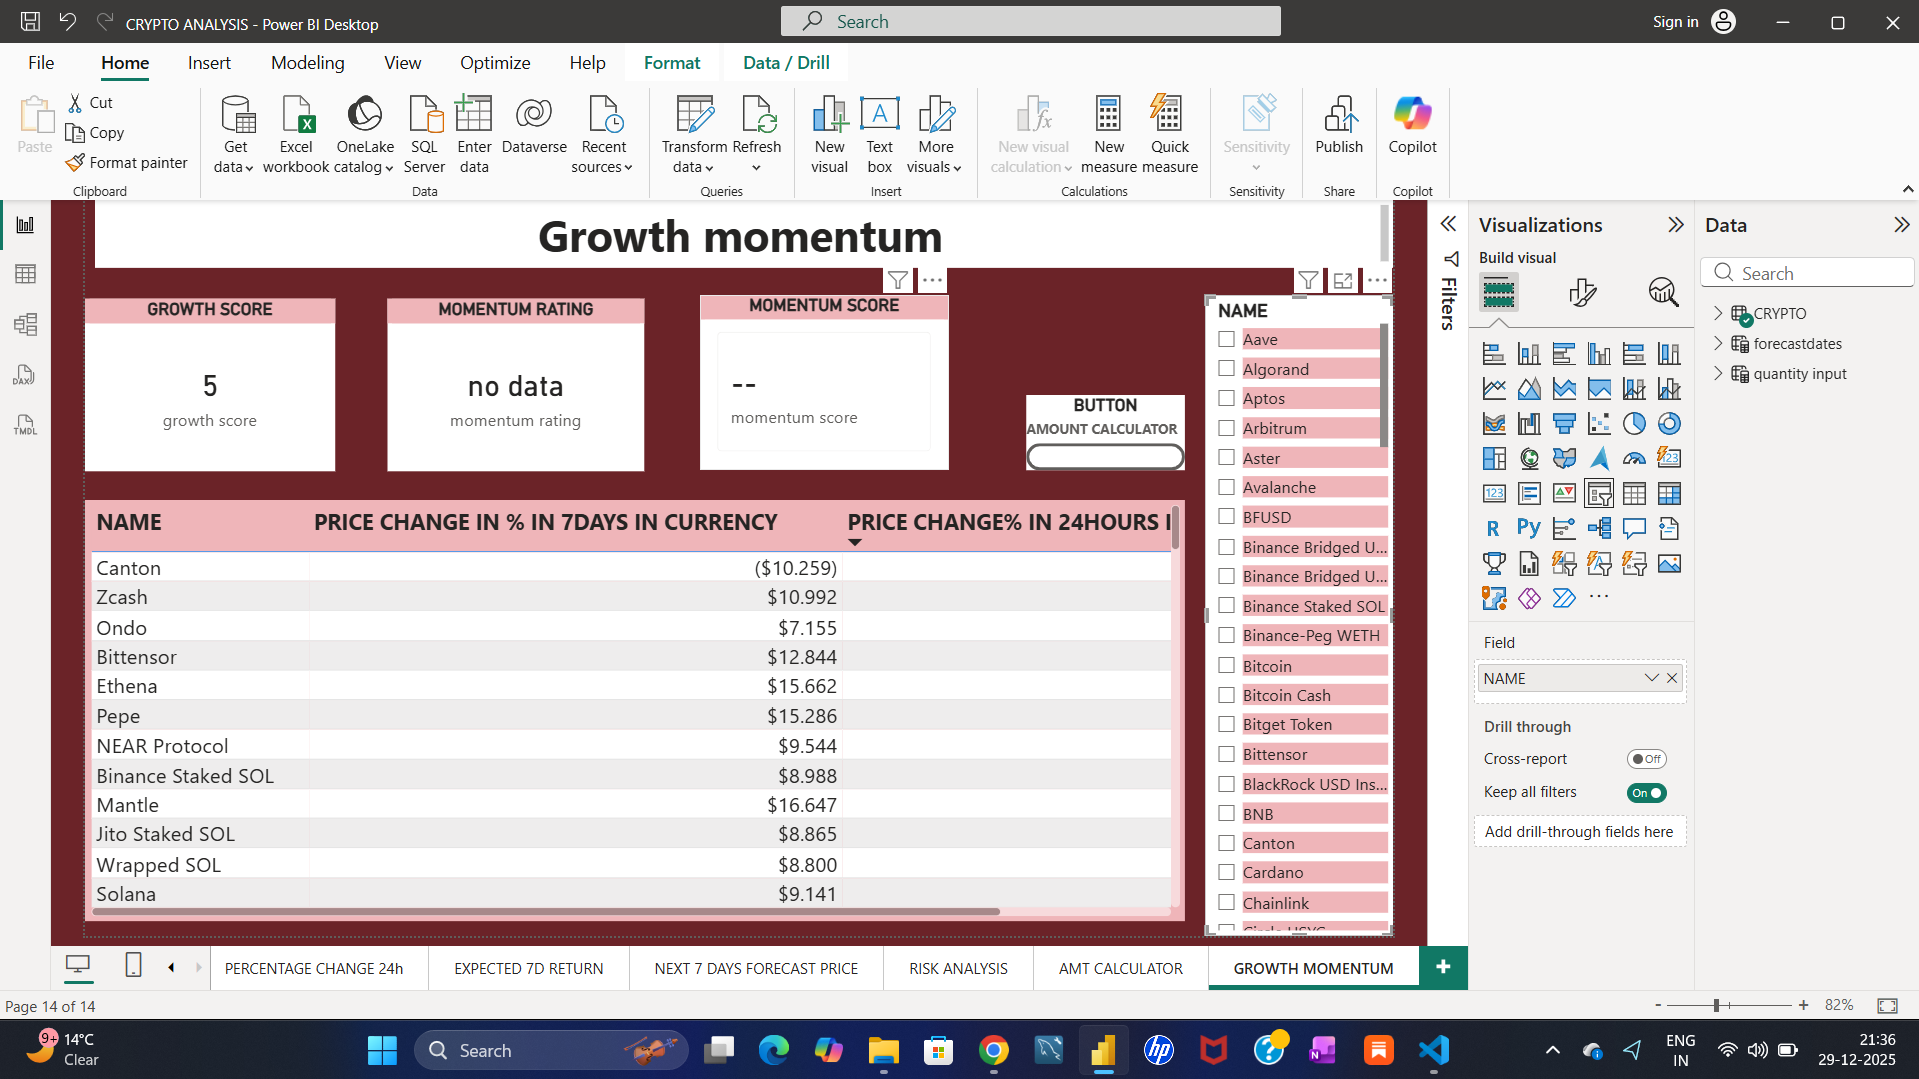

This screenshot's page, from the dashboard's own definition file:
{"tool":"powerbi","page":{"name":"GROWTH MOMENTUM","canvas":[1280,720],"ordinal":13},"visuals":[{"type":"textbox","box":[9.8,0,1270.5,66],"z":0},{"type":"slicer","fields":{"Values":["CRYPTO.name"]},"box":[1096.1,93.4,184.2,626.3],"z":1000},{"type":"card","title":"MOMENTUM RATING","fields":{"Values":["CRYPTO.momentum rating"]},"box":[296.1,96.1,251.3,168.4],"z":2000},{"type":"card","title":"GROWTH SCORE","fields":{"Values":["CRYPTO.growth score"]},"box":[0,96.1,244.7,168.4],"z":3000},{"type":"cardVisual","title":"MOMENTUM SCORE","fields":{"Data":["CRYPTO.momentum score"]},"box":[601.3,93.4,243.4,171.1],"z":4000},{"type":"tableEx","fields":{"Values":["CRYPTO.name","Sum(CRYPTO.price_change_percentage_7d_in_currency)","Sum(CRYPTO.PRICE CHANGE% IN 24HOURS IN CURRENCY)"]},"box":[0,293.5,1076.1,412.1],"z":5000},{"type":"actionButton","title":"BUTTON","box":[920.8,190.8,155.3,73.4],"z":6000}]}

Visuals, with their boxes on the page's 1280x720 design canvas (x1, y1, x2, y2). These are canvas units, not pixel positions in the 1919x1079 screenshot, which may show the page scaled, cropped or inside an application window:
textbox: (x1=10, y1=0, x2=1280, y2=66)
slicer - CRYPTO.name: (x1=1096, y1=93, x2=1280, y2=720)
"MOMENTUM RATING" card: (x1=296, y1=96, x2=547, y2=264)
"GROWTH SCORE" card: (x1=0, y1=96, x2=245, y2=264)
"MOMENTUM SCORE" cardVisual: (x1=601, y1=93, x2=845, y2=264)
tableEx - CRYPTO.name x Sum(CRYPTO.price_change_percentage_7d_in_currency): (x1=0, y1=294, x2=1076, y2=706)
"BUTTON" actionButton: (x1=921, y1=191, x2=1076, y2=264)
